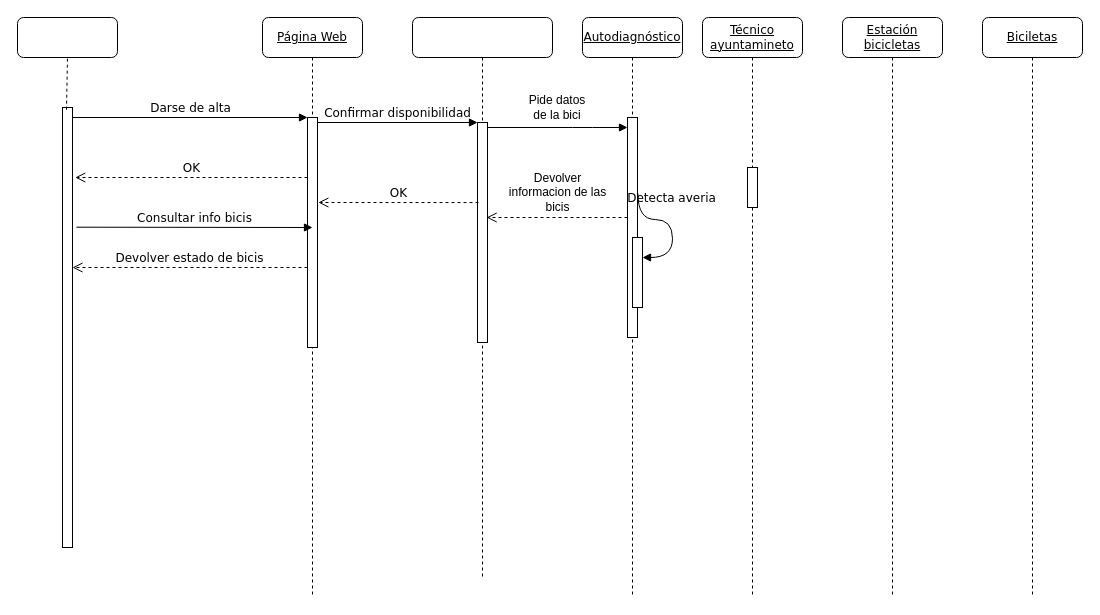
Some shapes in this 1100 by 615 pixel diagram are drawn without their labels. Here are the shapes that lost their labels. From the top down, the box of each, then its label:
(16, 16, 118, 58): Usuarios
(412, 16, 552, 578): Sistema Control
